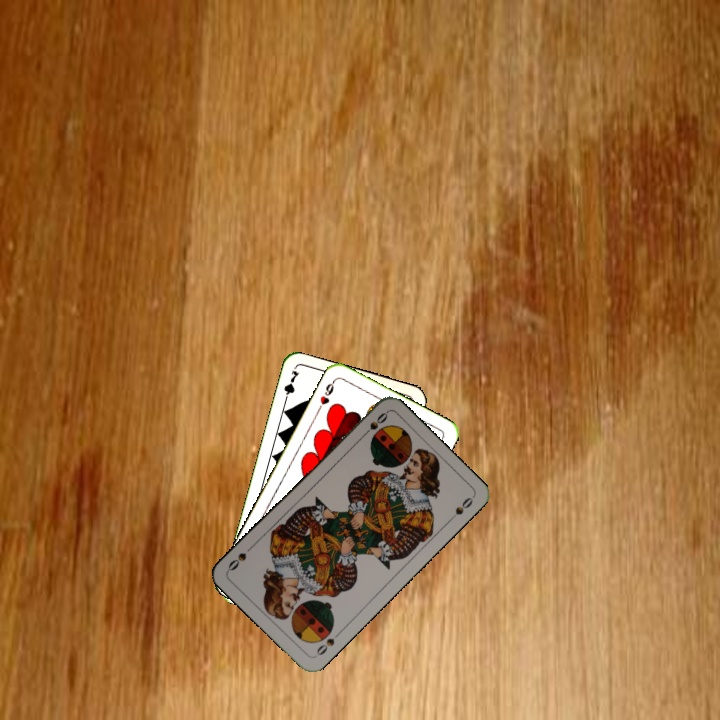G7: (280, 366, 302, 406)
H9: (313, 376, 338, 414)
SO: (357, 408, 391, 440), (311, 628, 343, 660)
